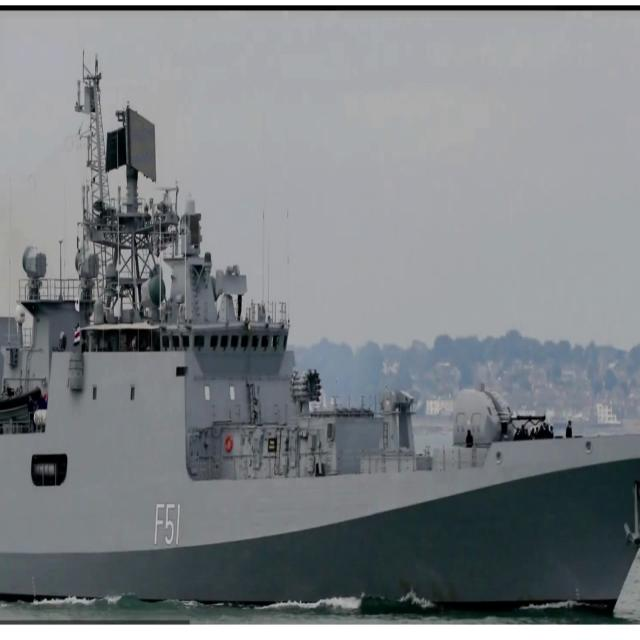OCR: (150, 499, 184, 552)
